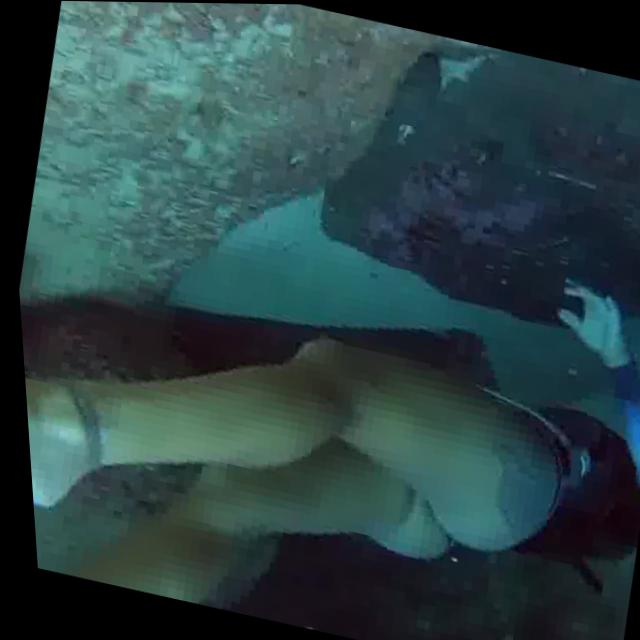human: (8, 156, 640, 640)
